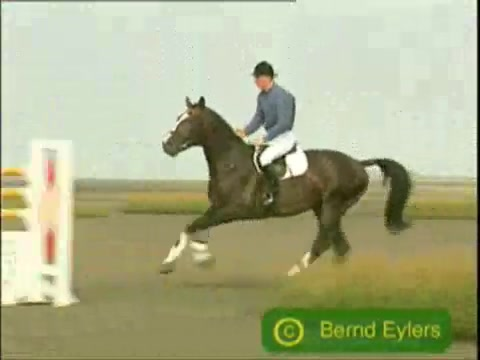horse: (160, 94, 415, 281)
